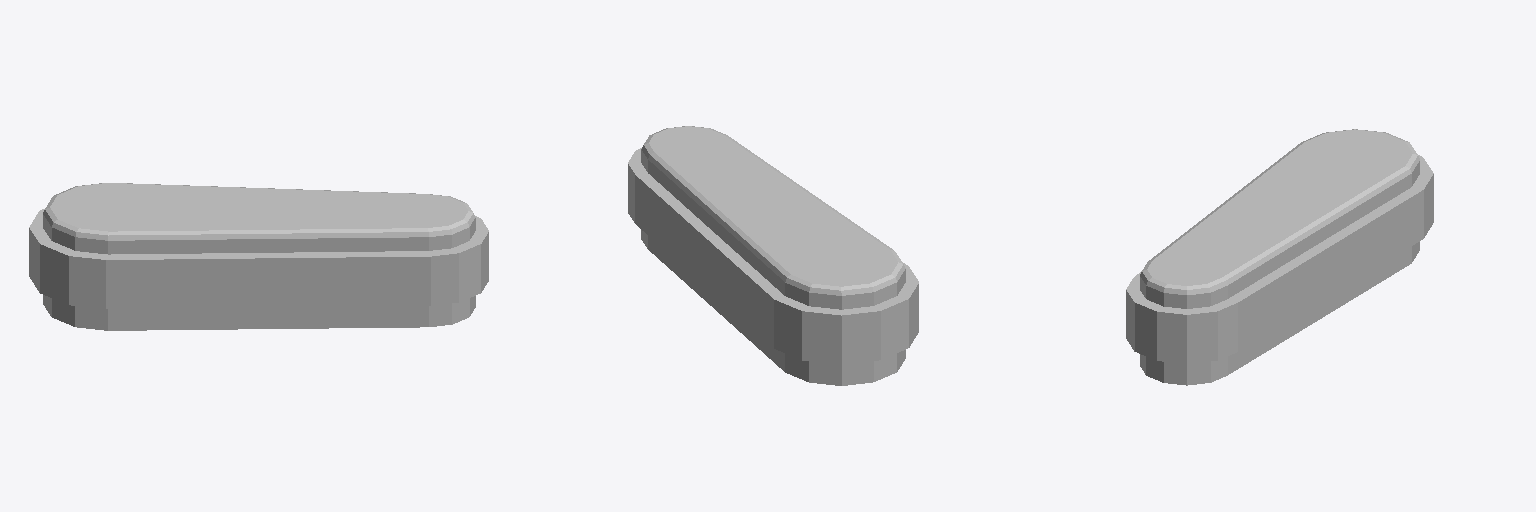
File: LeftFlipper.obj
The picture shows the model from 3 angles: view 1: azimuth 30°, elevation 25°; view 2: azimuth 150°, elevation 25°; view 3: azimuth 270°, elevation 25°; orthographic projection.
Visible parts, largest first — view 1: Flipper.007_Untitled.000; view 2: Flipper.007_Untitled.000; view 3: Flipper.007_Untitled.000.
Part boxes in pixels (left/top/right/bottom): Flipper.007_Untitled.000: left=29, top=183, right=488, bottom=330; Flipper.007_Untitled.000: left=628, top=126, right=918, bottom=385; Flipper.007_Untitled.000: left=1126, top=129, right=1433, bottom=385.
Size of the model in its own units: 0.1188 by 0.0306 by 0.0886.